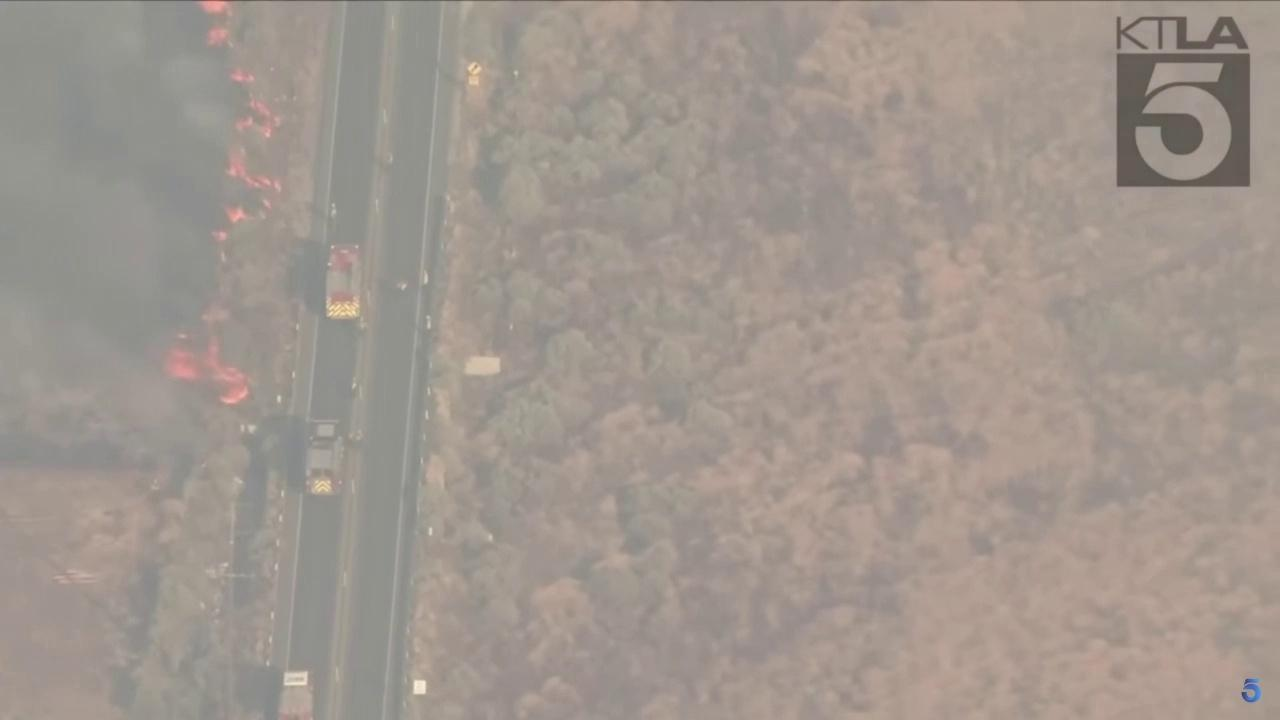fire: (165, 333, 251, 406), (224, 144, 282, 194), (233, 93, 283, 141), (193, 0, 238, 18), (204, 29, 240, 51), (222, 201, 249, 224), (226, 67, 259, 85), (209, 231, 230, 243), (261, 198, 273, 211)
smoke: (0, 0, 252, 491)
